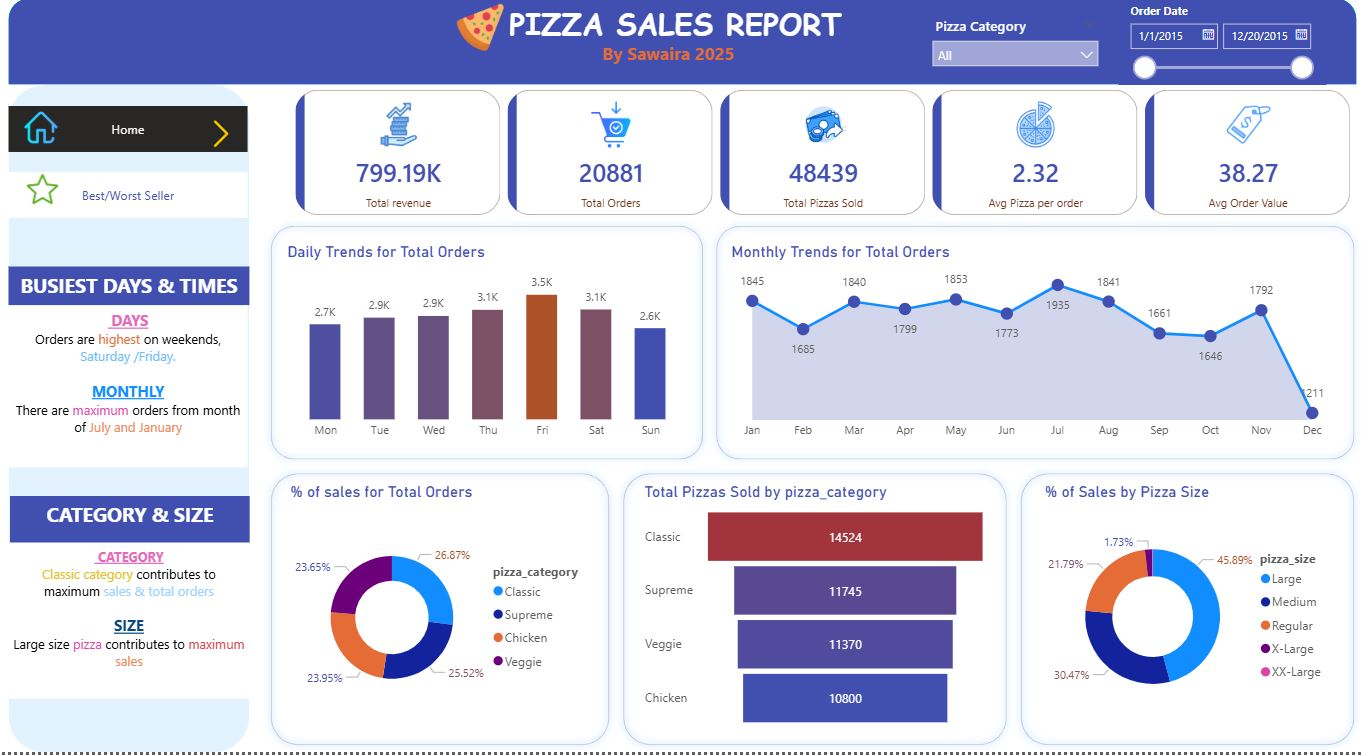

What the dashboard file says about the page in this screenshot:
{"tool":"powerbi","page":{"name":"Home","canvas":[1500,820],"ordinal":0},"visuals":[{"type":"shape","box":[12,0,1466,94],"z":0},{"type":"textbox","box":[550.7,0,385.9,61.6],"z":1000},{"type":"textbox","box":[652.2,41.7,215.6,52.5],"z":2000},{"type":"image","box":[481.9,0,87,63.4],"z":3000},{"type":"shape","box":[288,240,486,270],"z":4000},{"type":"shape","box":[774,240,710,270],"z":5000},{"type":"shape","box":[288,509,384,311.6],"z":6000},{"type":"shape","box":[672.1,509,433,311.6],"z":7000},{"type":"shape","box":[1105,509,378.6,311.6],"z":8000},{"type":"cardVisual","fields":{"Data":["pizza_sales.Total revenue","pizza_sales.Total Orders","pizza_sales.Total Pizzas Sold","pizza_sales.Avg Pizza per order","pizza_sales.Avg Order Value"]},"box":[318,94,1160,146],"z":9000},{"type":"columnChart","title":"Daily Trends for Total Orders","fields":{"Category":["pizza_sales.order_day"],"Y":["pizza_sales.Total Orders"]},"box":[310,266,446,222],"z":10000},{"type":"areaChart","title":"Monthly Trends for Total Orders","fields":{"Category":["pizza_sales.Month_Name"],"Y":["pizza_sales.Total Orders"]},"box":[793.3,266.7,663.3,221.7],"z":11000},{"type":"donutChart","title":"% of  sales for Total Orders","fields":{"Y":["pizza_sales.Total revenue"],"Category":["pizza_sales.pizza_category"]},"box":[313.4,527.2,338.8,273.5],"z":12000},{"type":"donutChart","title":"% of Sales by Pizza Size","fields":{"Y":["pizza_sales.Total revenue"],"Series":["pizza_sales.pizza_size"]},"box":[1133.3,526.7,323.3,271.7],"z":13000},{"type":"funnel","fields":{"Category":["pizza_sales.pizza_category"],"Y":["pizza_sales.Total Pizzas Sold"]},"box":[697.4,527.2,382.2,271.7],"z":14000},{"type":"shape","box":[12,94,262,726],"z":15000},{"type":"textbox","box":[12,292,262,42],"z":16000},{"type":"textbox","box":[12.4,541.2,260.8,51.5],"z":17000},{"type":"textbox","box":[12,334,260,176],"z":18000},{"type":"textbox","box":[12,592,262,170],"z":19000},{"type":"slicer","fields":{"Values":["pizza_sales.pizza_category"]},"box":[1006,14,200,68],"z":20000},{"type":"slicer","fields":{"Values":["pizza_sales.order_date"]},"box":[1218,0,226,94],"z":21000},{"type":"pageNavigator","box":[12,118,260,50],"z":22000},{"type":"pageNavigator","box":[12,190,260,50],"z":23000},{"type":"image","box":[214,128,58,40],"z":24000},{"type":"image","box":[12,118,70,46],"z":25000},{"type":"image","box":[26,162,44,92],"z":26000}]}

Visuals, with their boxes in screenshot pixels (x1, y1, x2, y2), scaled from the page's 1500x820 canvas onto the 1363x755 screenshot:
shape: detection(11, 0, 1343, 87)
textbox: detection(500, 0, 851, 57)
textbox: detection(593, 38, 789, 87)
image: detection(438, 0, 517, 58)
shape: detection(262, 221, 703, 470)
shape: detection(703, 221, 1348, 470)
shape: detection(262, 469, 611, 754)
shape: detection(611, 469, 1004, 754)
shape: detection(1004, 469, 1348, 754)
cardVisual - pizza_sales.Total revenue x pizza_sales.Total Orders: detection(289, 87, 1343, 221)
"Daily Trends for Total Orders" columnChart: detection(282, 245, 687, 449)
"Monthly Trends for Total Orders" areaChart: detection(721, 246, 1324, 450)
"% of  sales for Total Orders" donutChart: detection(285, 485, 593, 737)
"% of Sales by Pizza Size" donutChart: detection(1030, 485, 1324, 735)
funnel - pizza_sales.pizza_category x pizza_sales.Total Pizzas Sold: detection(634, 485, 981, 736)
shape: detection(11, 87, 249, 754)
textbox: detection(11, 269, 249, 308)
textbox: detection(11, 498, 248, 546)
textbox: detection(11, 308, 247, 470)
textbox: detection(11, 545, 249, 702)
slicer - pizza_sales.pizza_category: detection(914, 13, 1096, 76)
slicer - pizza_sales.order_date: detection(1107, 0, 1312, 87)
pageNavigator: detection(11, 109, 247, 155)
pageNavigator: detection(11, 175, 247, 221)
image: detection(194, 118, 247, 155)
image: detection(11, 109, 75, 151)
image: detection(24, 149, 64, 234)
